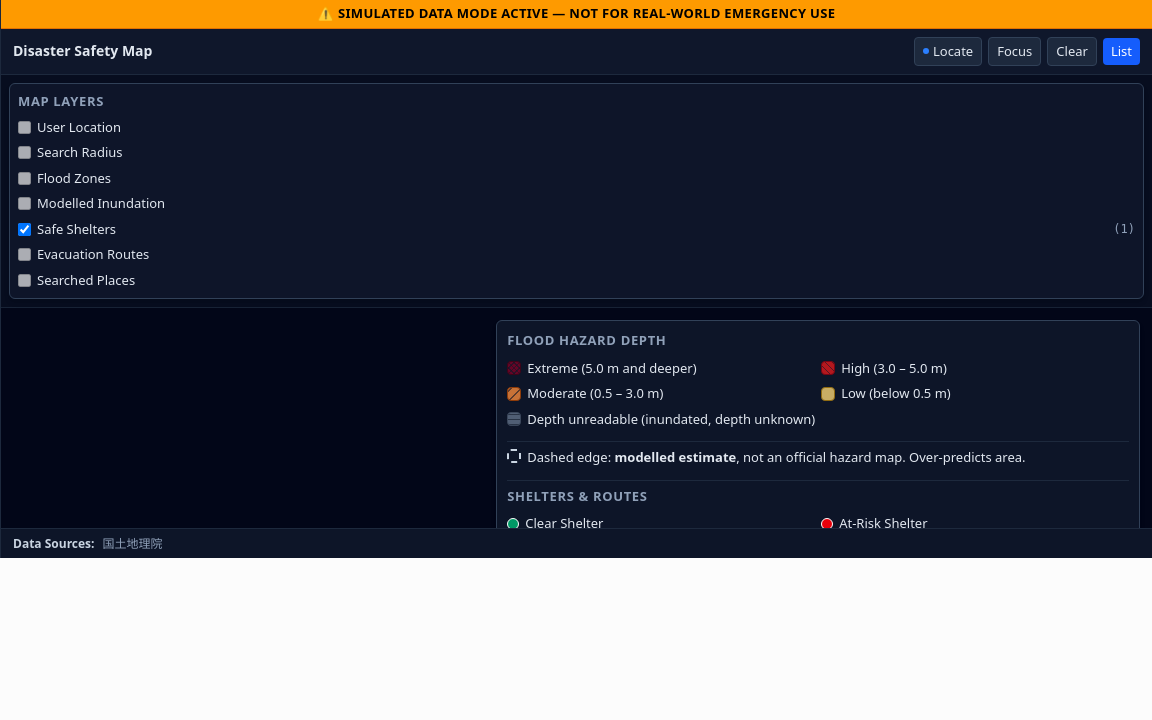
Test case: MapPane Component (Phase 9, Checkpoint 9) › supports text-equivalent list view toggle (R5.8, R5.9, N7)
Step 1. Click the button with test id "map-view-toggle" → (1121, 51), box [1103,38,1140,65]
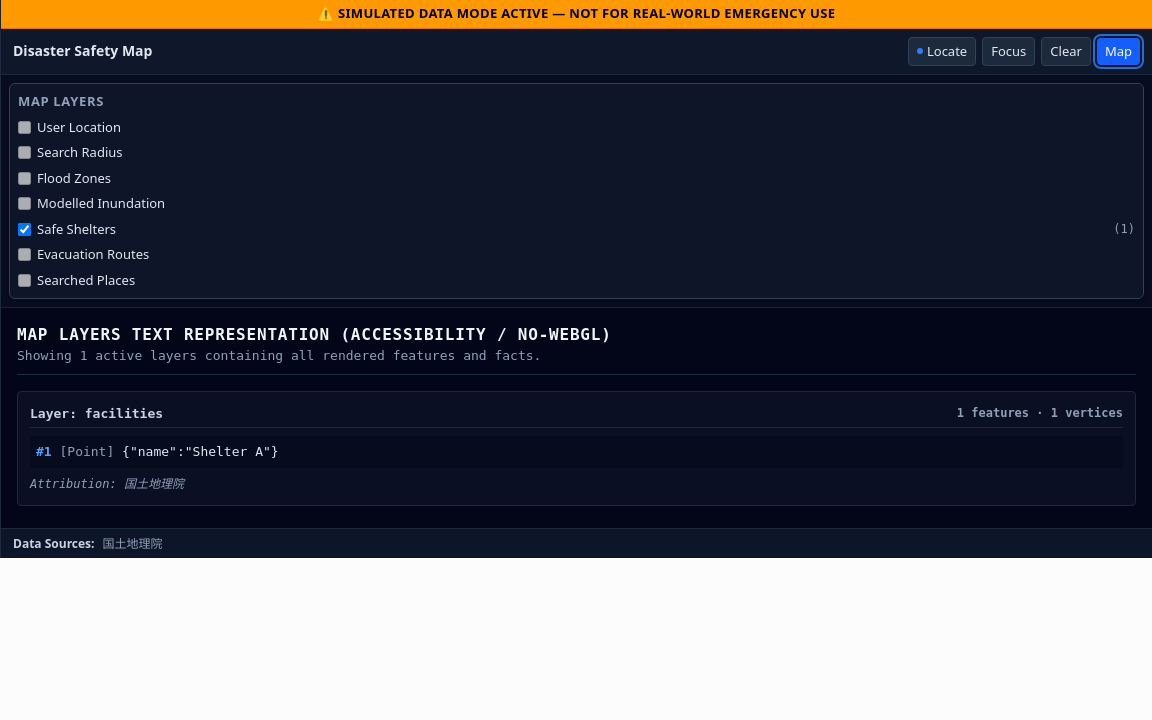
Expected: the element with test id "map-list-view" shows "Layer: facilities", [1,308,1151,522]
Expected: the element with test id "map-list-view" shows "Shelter A", [122,444,279,459]
